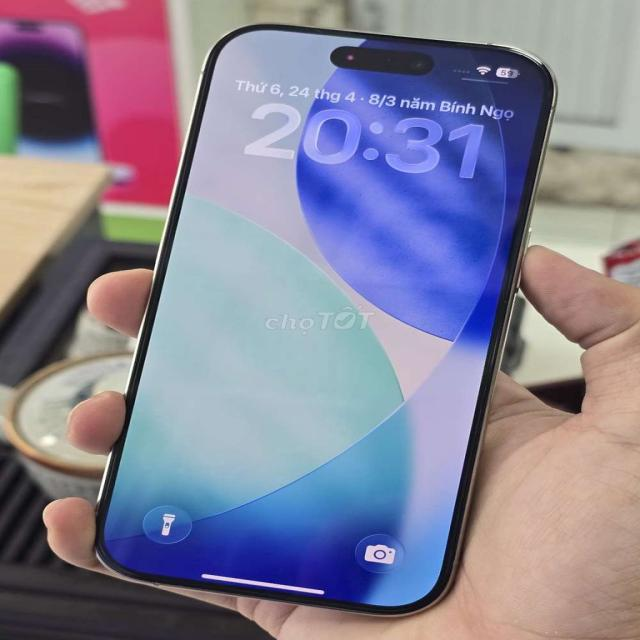gen_16: (98, 24, 555, 614)
